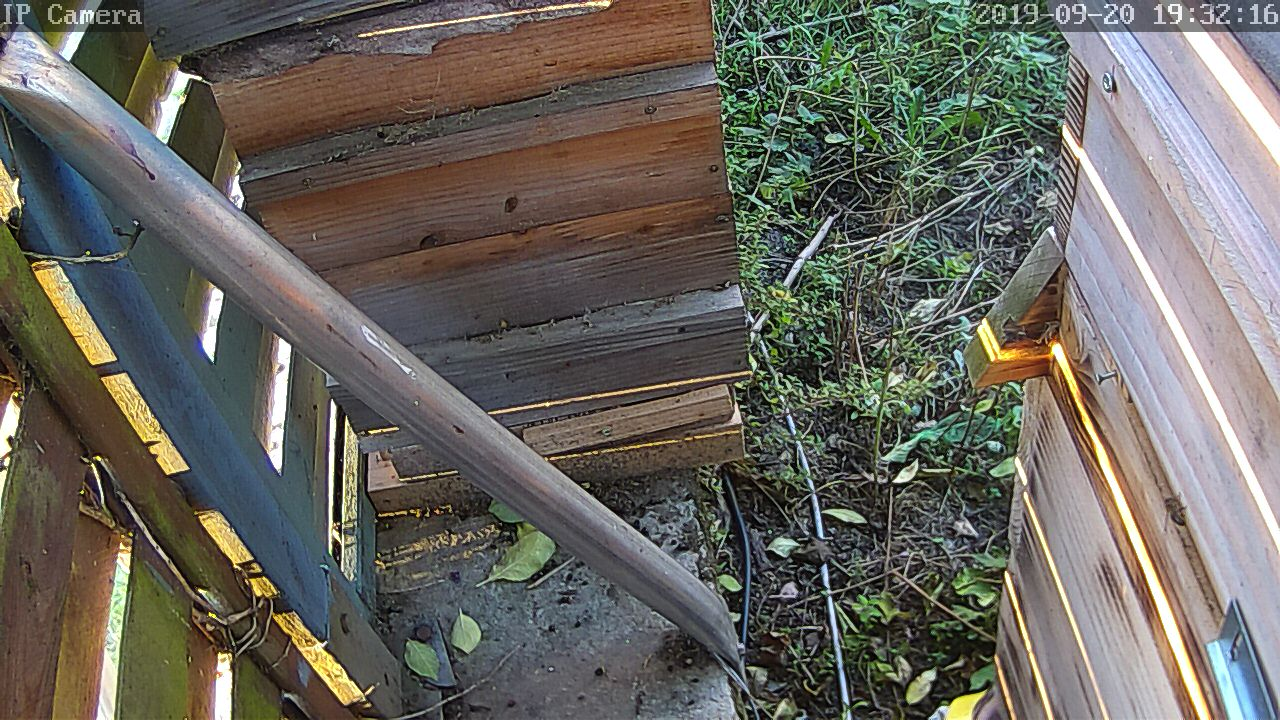bee: (1158, 494, 1190, 528)
